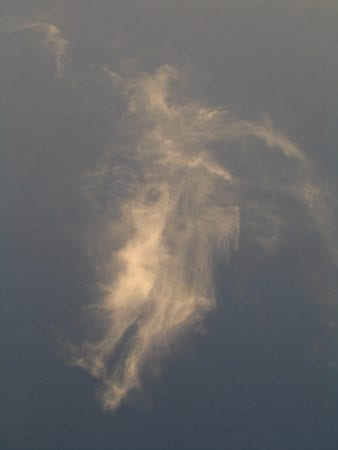Cirrus: (21, 18, 316, 419)
